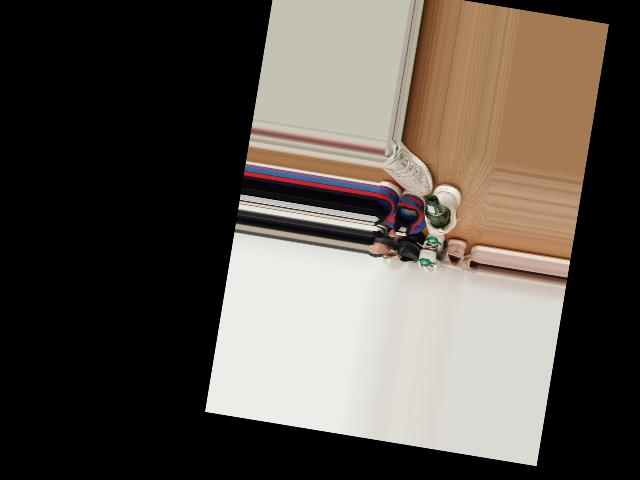beer: (422, 193, 452, 228)
